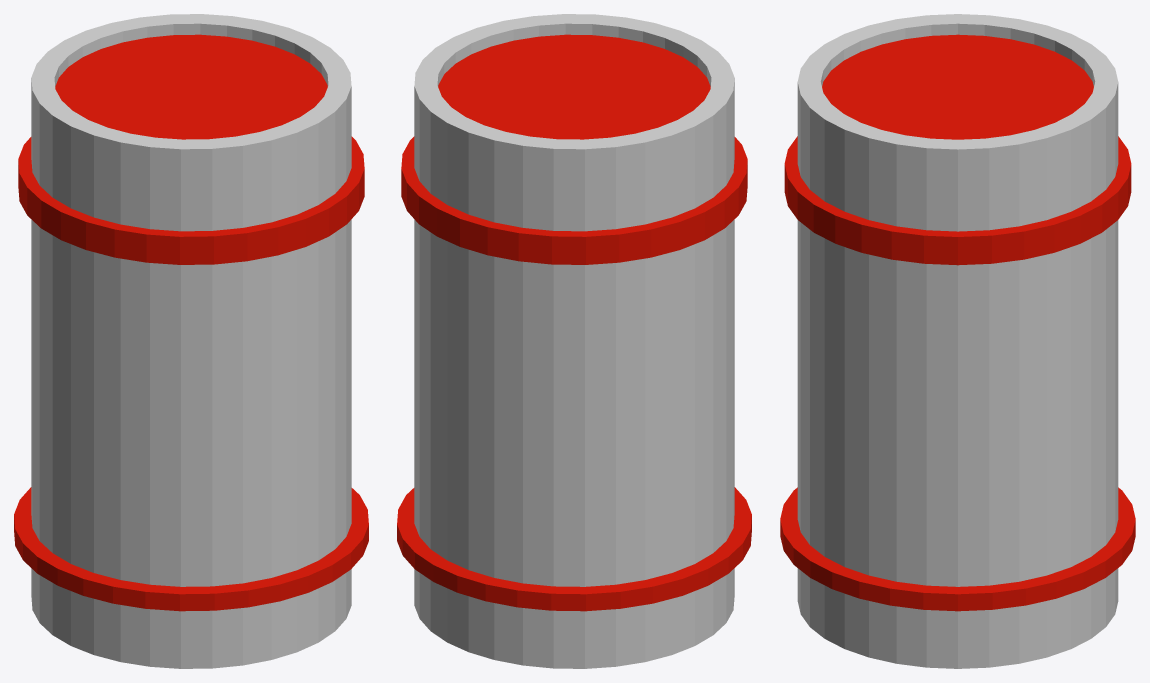
Rendered from explosiveBarrel.fbx.
3 views of the same model, side by side, from view 1: azimuth 30°, elevation 25°; view 2: azimuth 150°, elevation 25°; view 3: azimuth 270°, elevation 25° (orthographic).
Parts seen in each view (by area): view 1: Cylinder; view 2: Cylinder; view 3: Cylinder.
Boxes of the visible parts, x1,y1,x2,y2 form: Cylinder: (14,14,368,668); Cylinder: (397,14,751,668); Cylinder: (780,14,1135,668).
Size of the model in its own units: 266 by 428 by 266.
